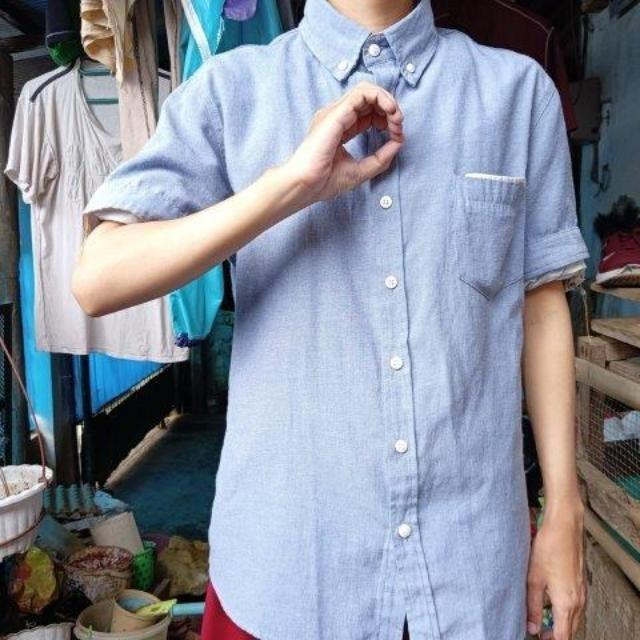O: (303, 80, 410, 192)
